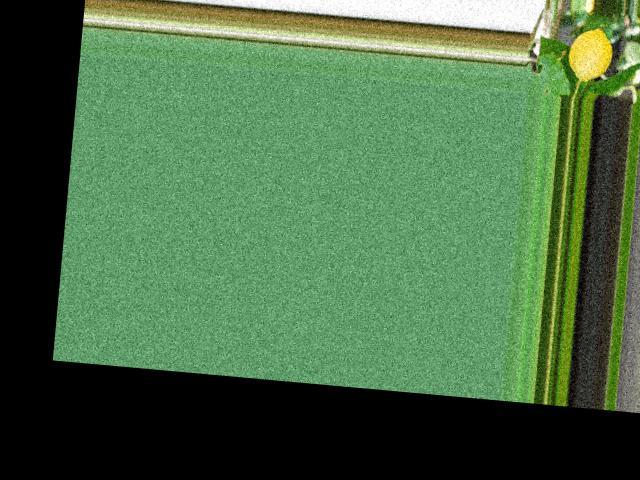lemon: (566, 19, 620, 85)
